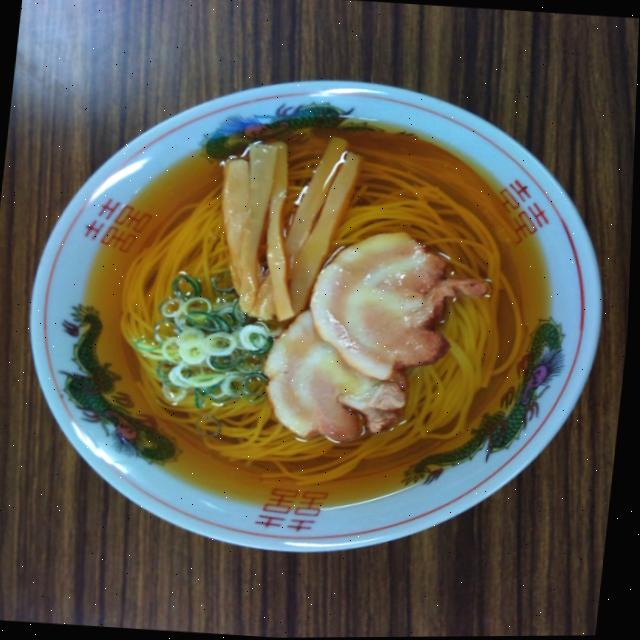面条主食: (34, 71, 563, 530)
